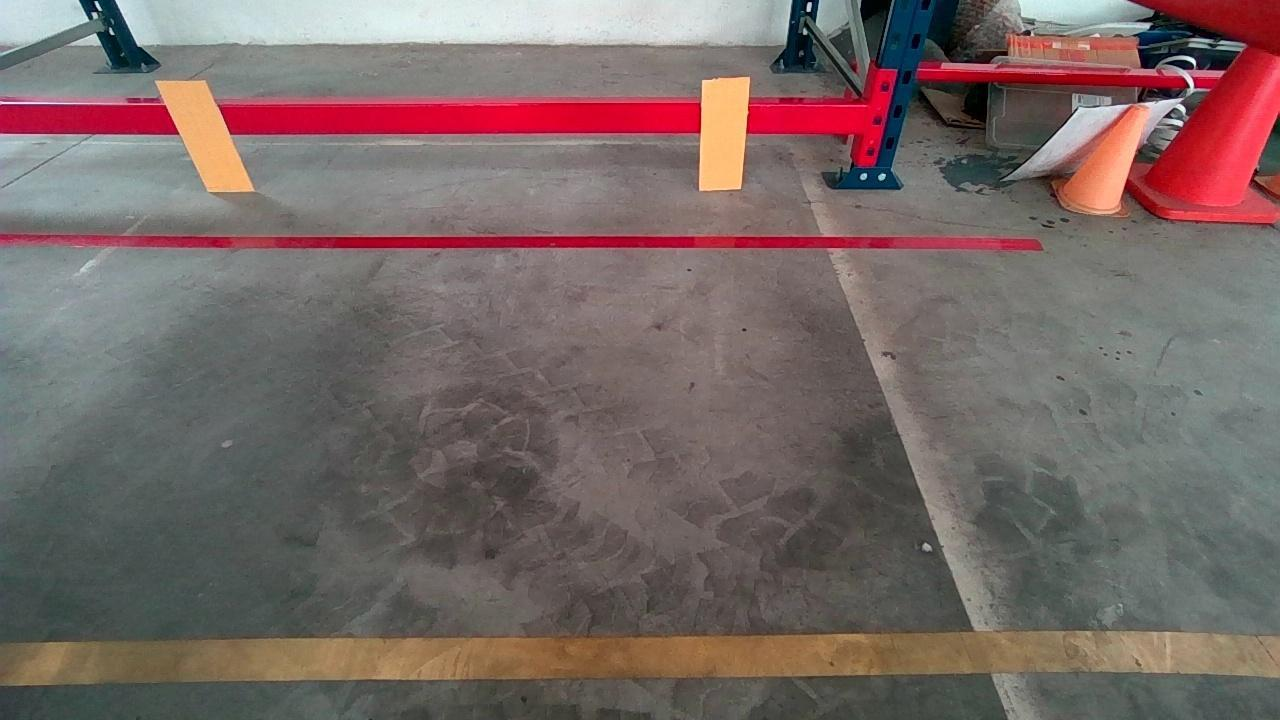h_rack: (0, 102, 869, 136)
orange_strip: (155, 80, 252, 189), (699, 79, 749, 188)
red_line: (0, 235, 1047, 251)
